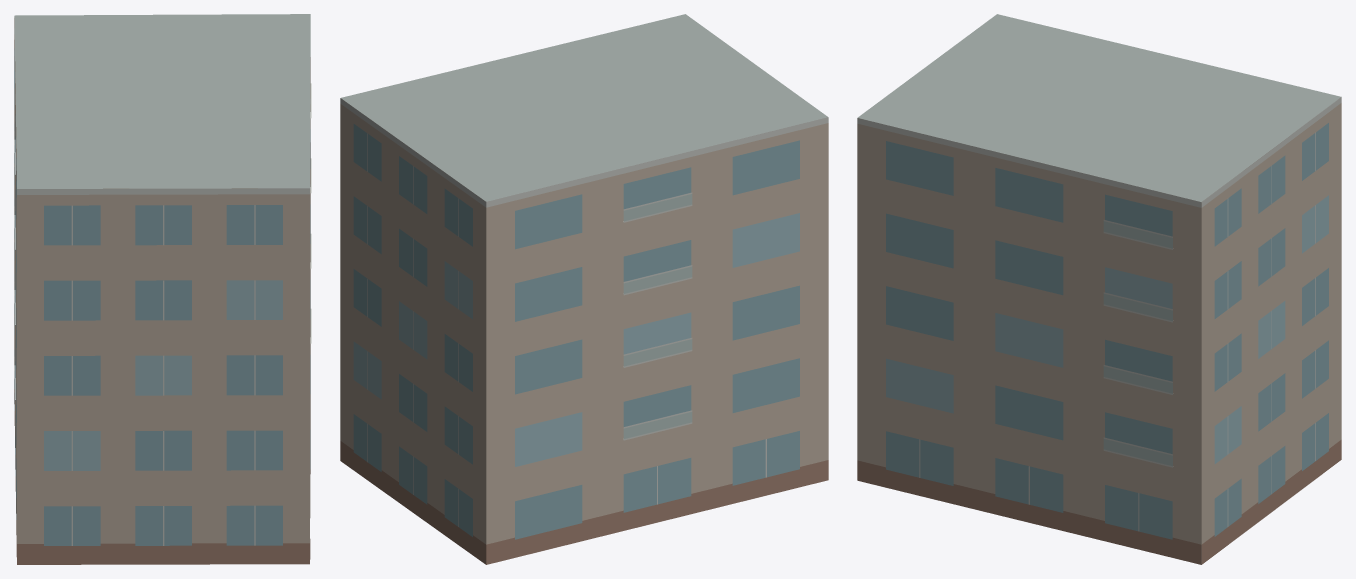
The model's file is survey-upis-32524917.glb.
3 renders of one model, left to right at view 1: azimuth 30°, elevation 25°; view 2: azimuth 150°, elevation 25°; view 3: azimuth 270°, elevation 25°, orthographic. The views are drawn at different scales.
Parts seen in each view (by area): view 1: survey-upis-32524917.tmp; view 2: survey-upis-32524917.tmp; view 3: survey-upis-32524917.tmp.
Part boxes in pixels (left/top/right/bottom): survey-upis-32524917.tmp: left=14, top=14, right=311, bottom=564; survey-upis-32524917.tmp: left=340, top=14, right=828, bottom=564; survey-upis-32524917.tmp: left=857, top=14, right=1341, bottom=564.
Size of the model in its own units: 17.03 by 15.3 by 18.52.
